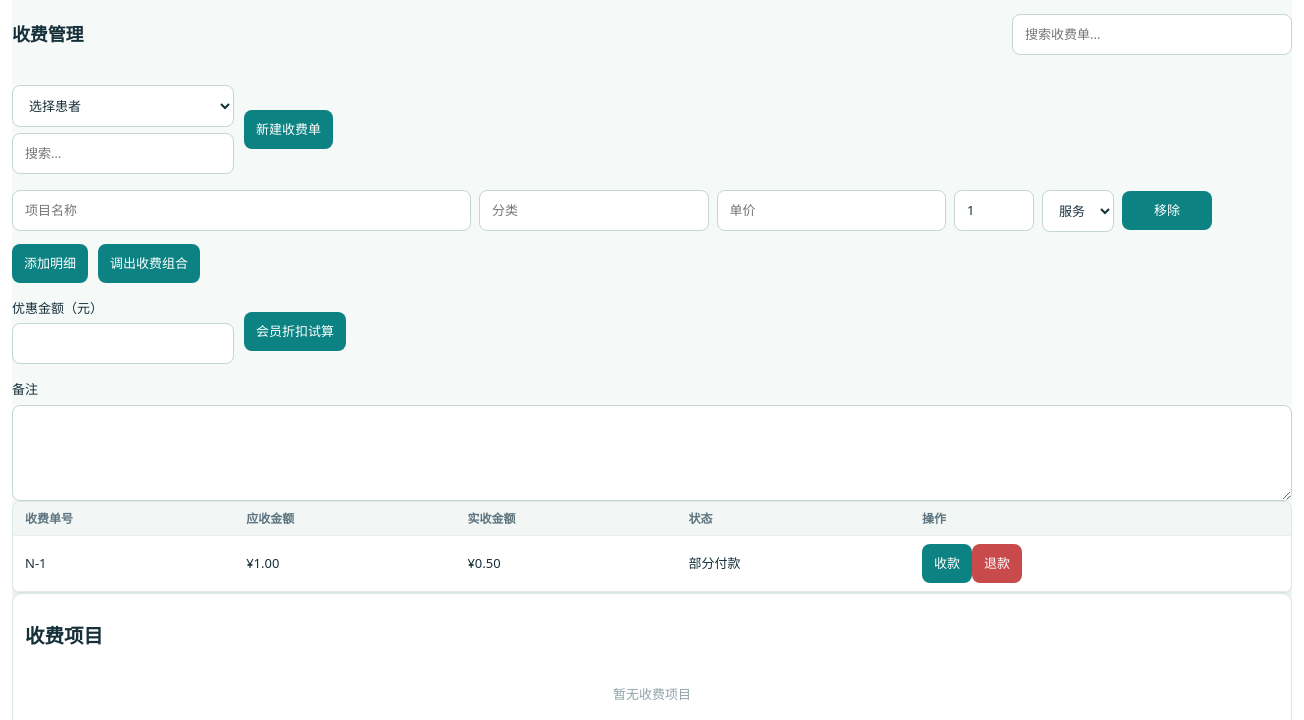
Test: ChargesPage › creates a charge with line items
Expected: the text "N-1" is shown, [13,536,234,592]
Select "患者甲" in the dropdown named "患者": (123, 106) [12,85,234,127]
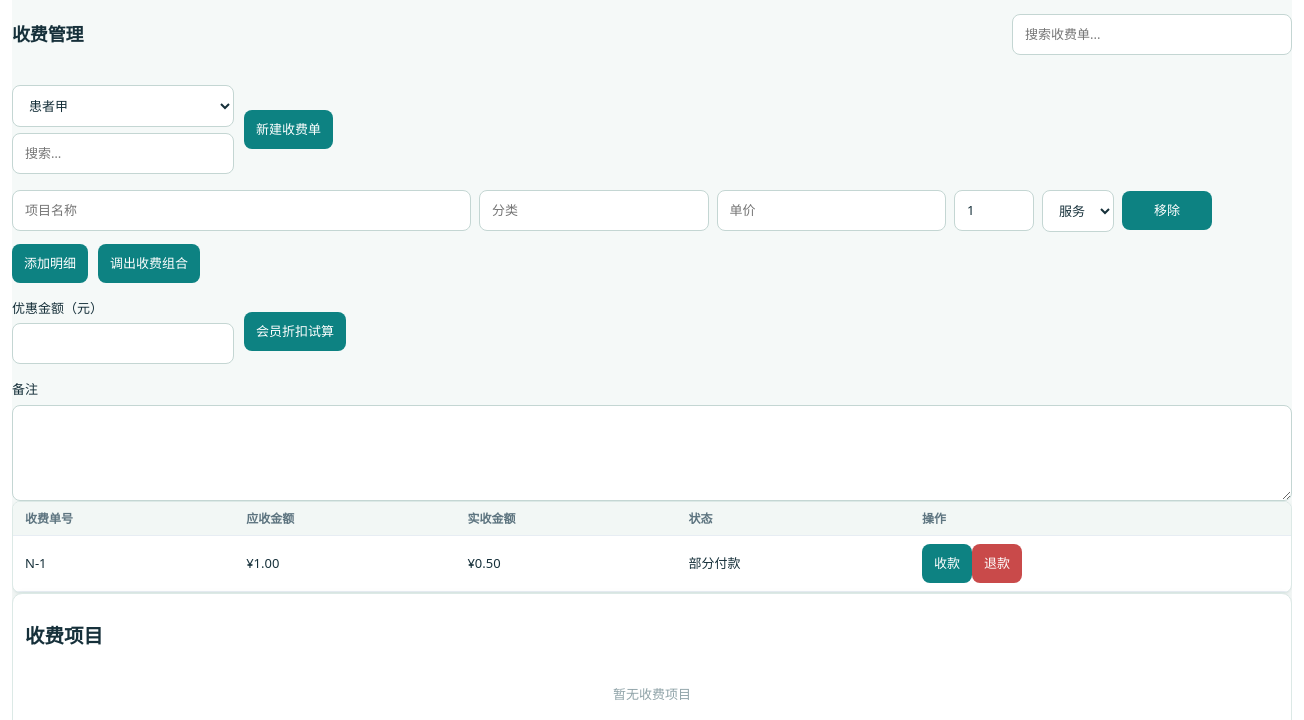
In the field labelled "项目名称": (242, 211) [12,190,471,231], type "洁牙"
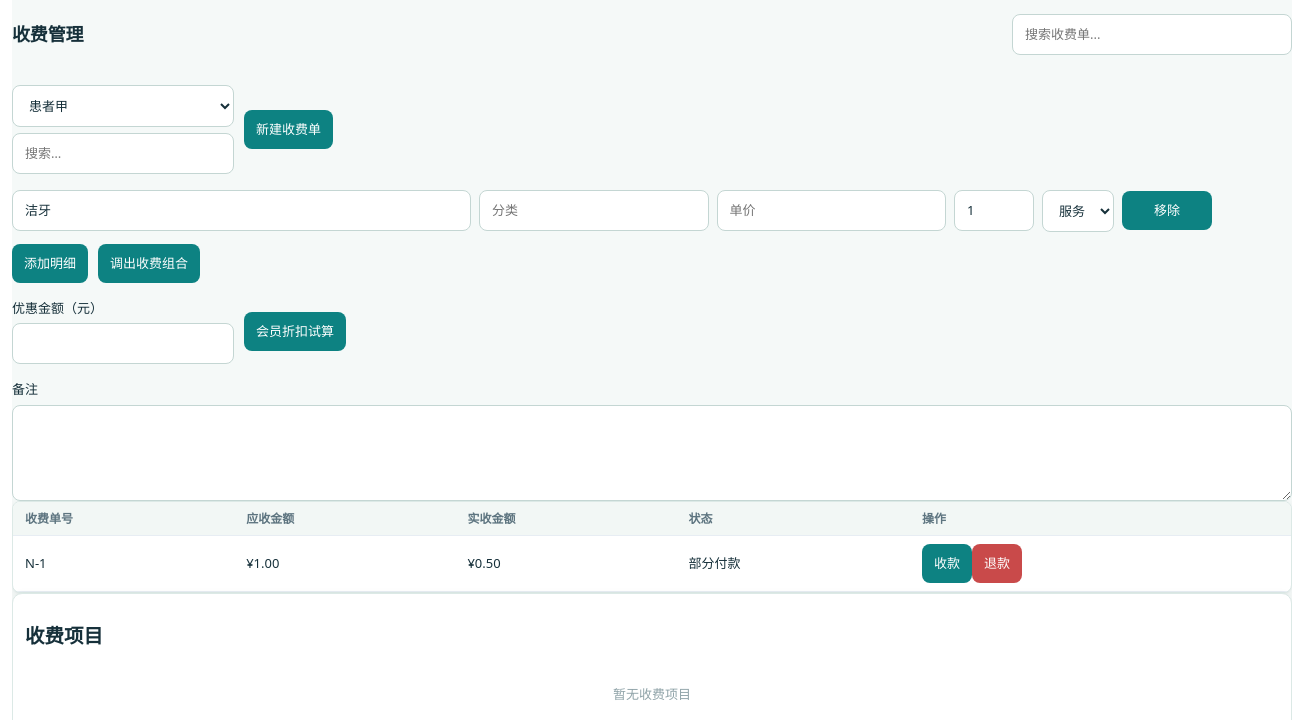
In the field named "项目分类": (594, 211) [479,190,708,231], type "CLEAN"
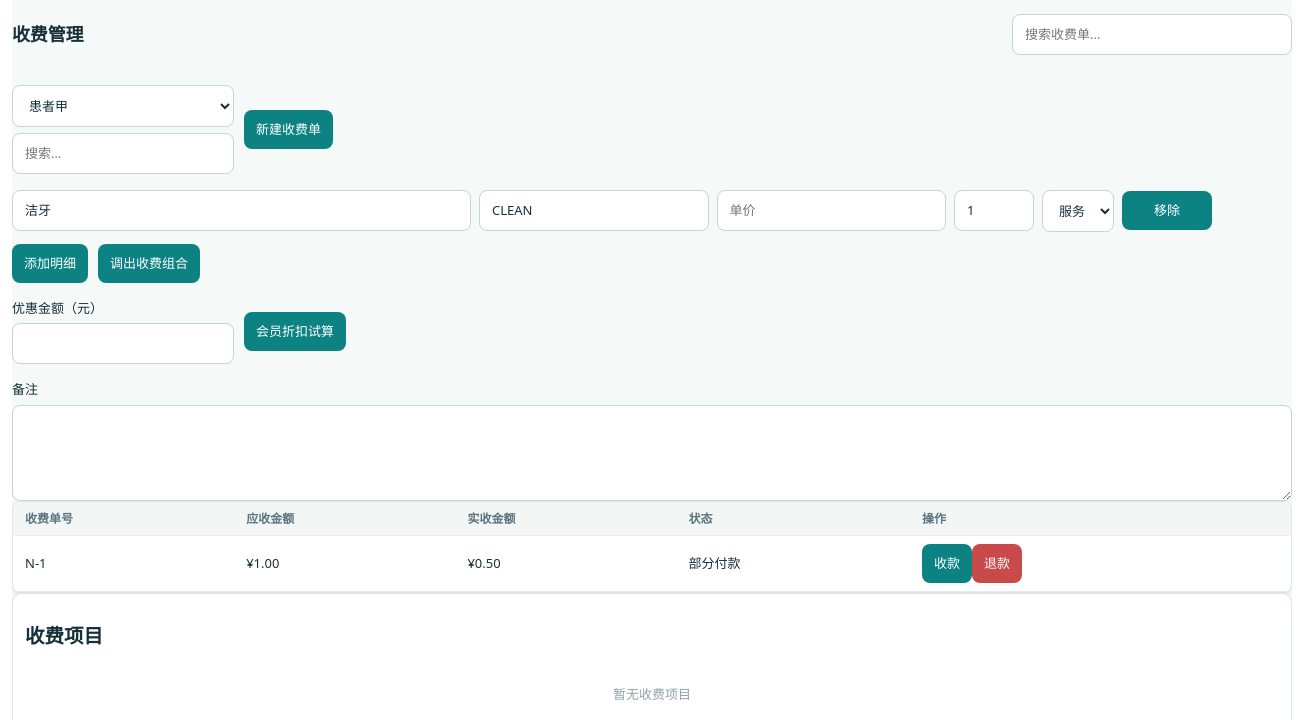
In the number field labelled "单价": (831, 211) [716,190,946,231], type "100"
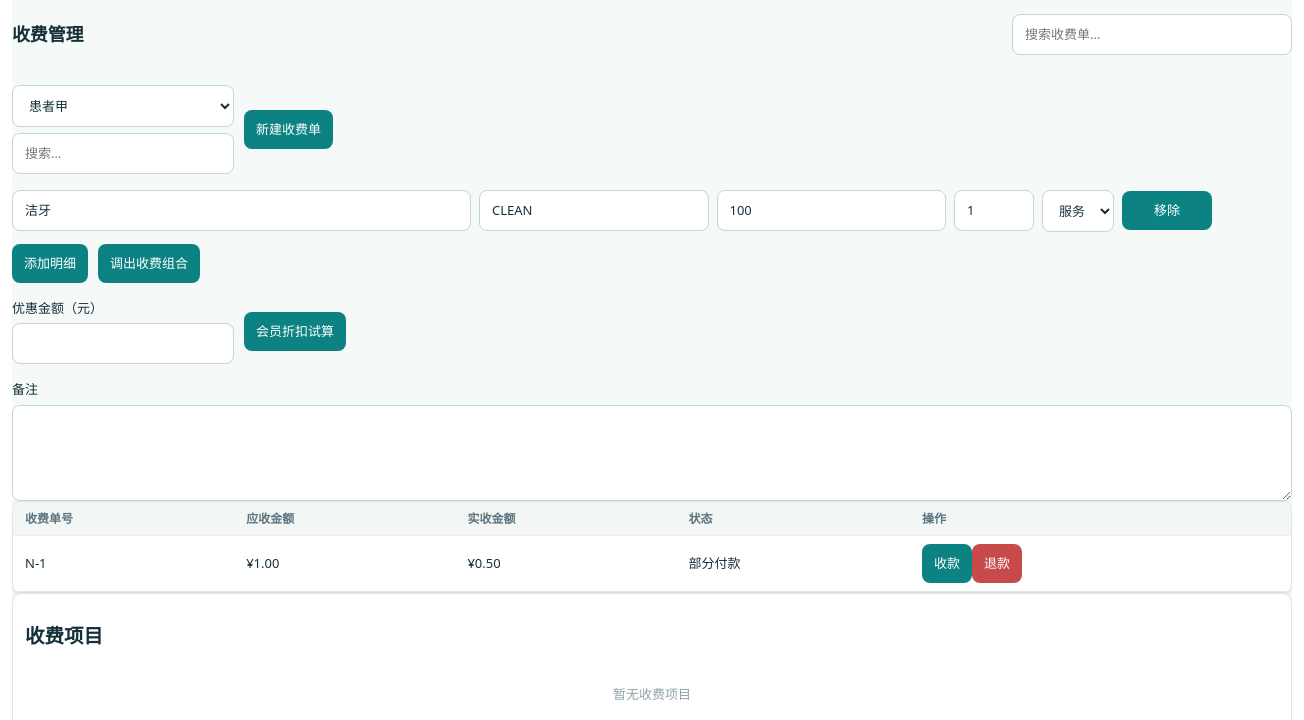
Replace the text in the number field named "数量" with "2": (994, 211) [954,190,1034,231]
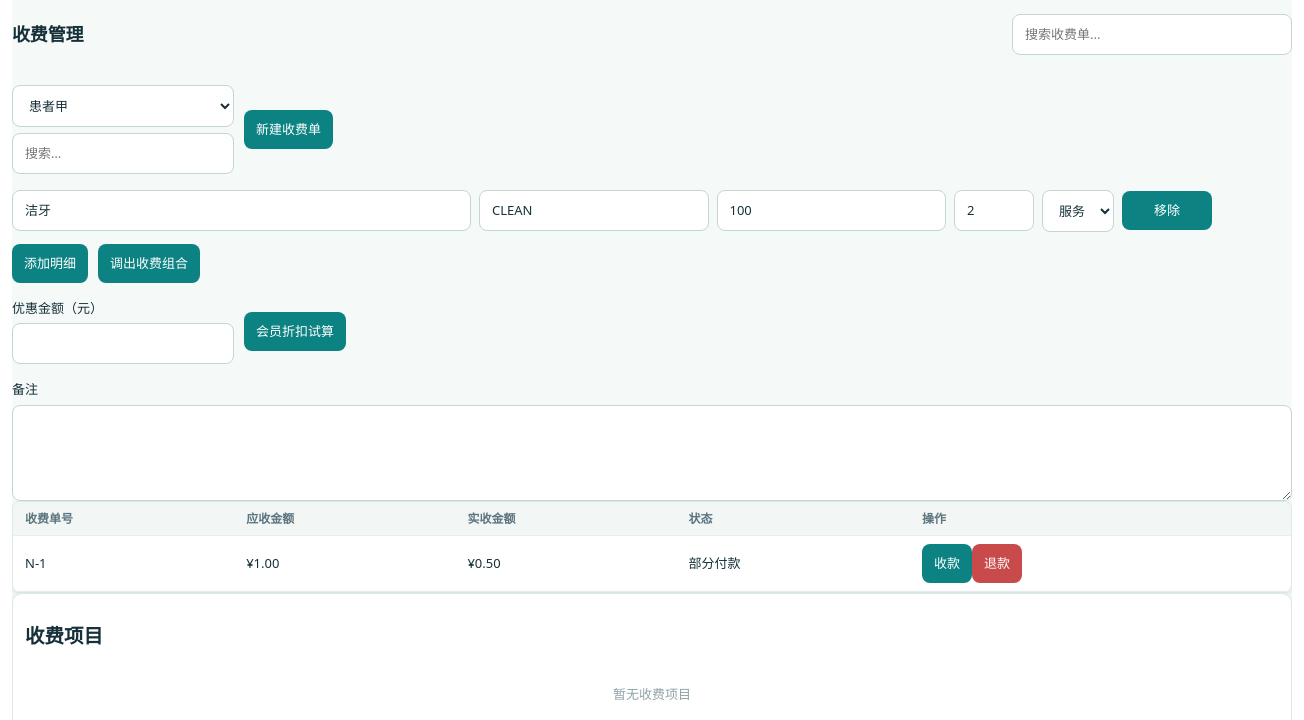
Click the button "新建收费单": (288, 129) [244,110,333,149]
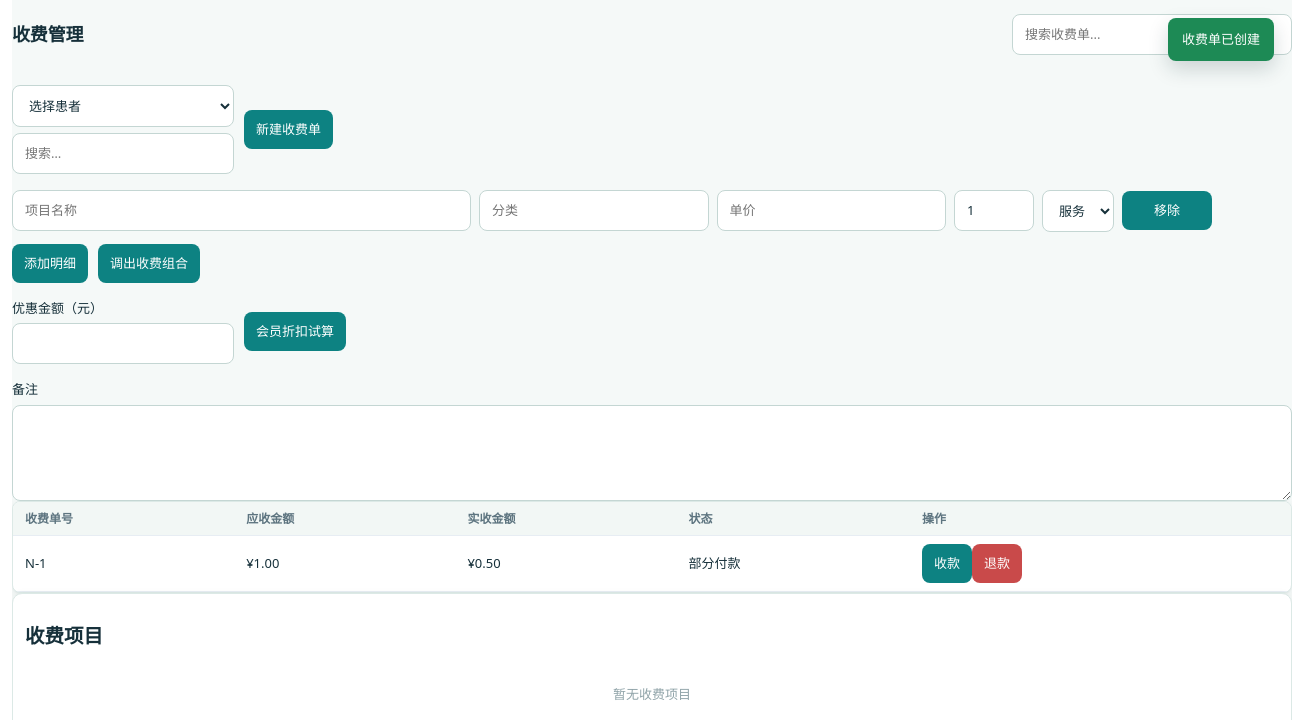
Expected: the text "收费单已创建" is shown, [1168,18,1274,61]
